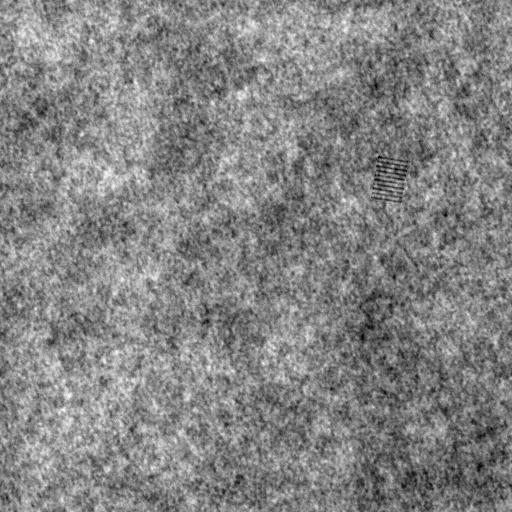impact: (369, 154, 410, 204)
